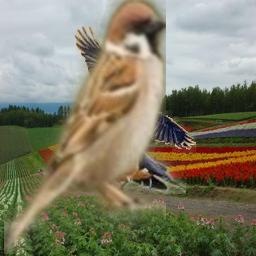Crow: (73, 20, 199, 163)
Sparrow: (4, 0, 166, 254)
Swallow: (85, 99, 186, 194)
